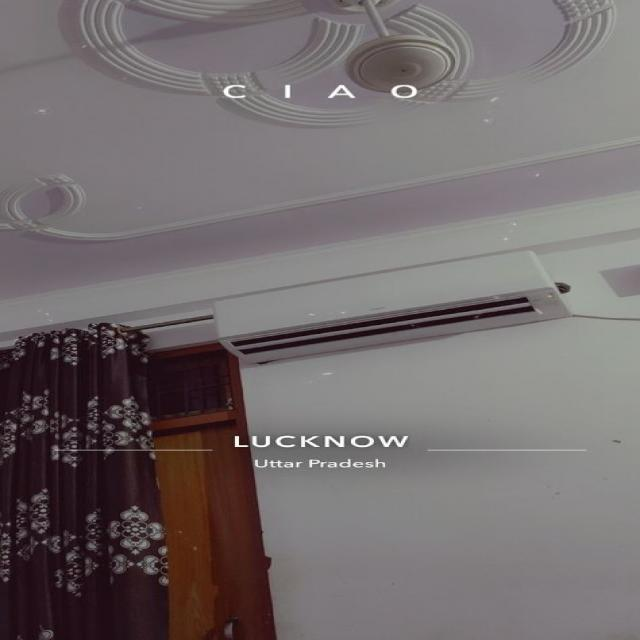AC: (213, 248, 573, 364)
